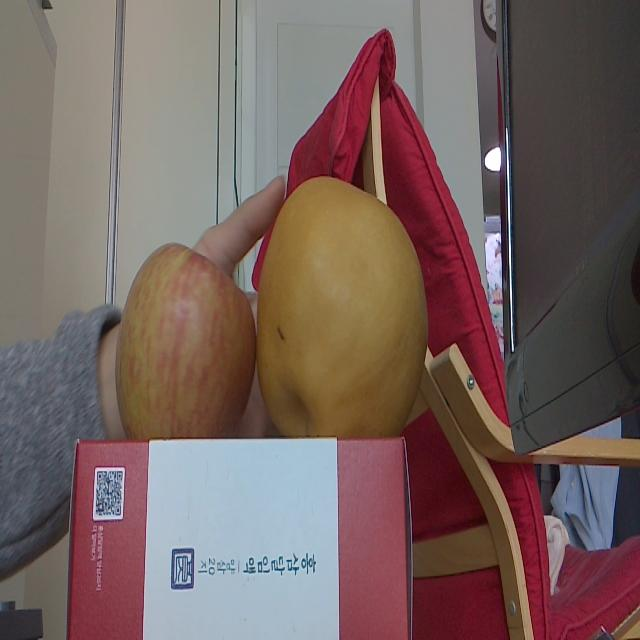apple: (117, 237, 255, 443)
pear: (255, 164, 431, 434)
